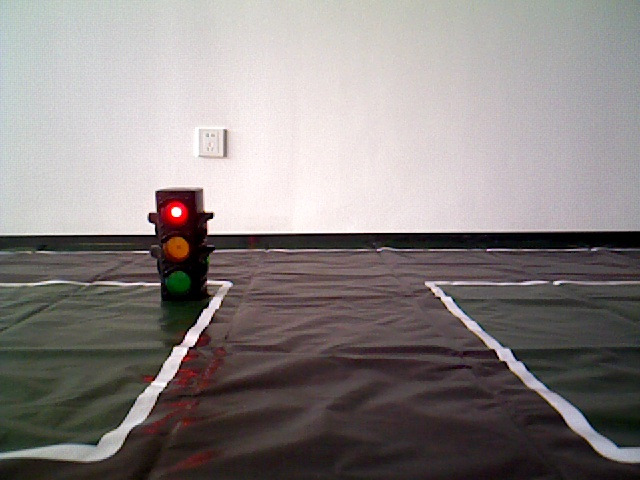red: (159, 191, 203, 305)
